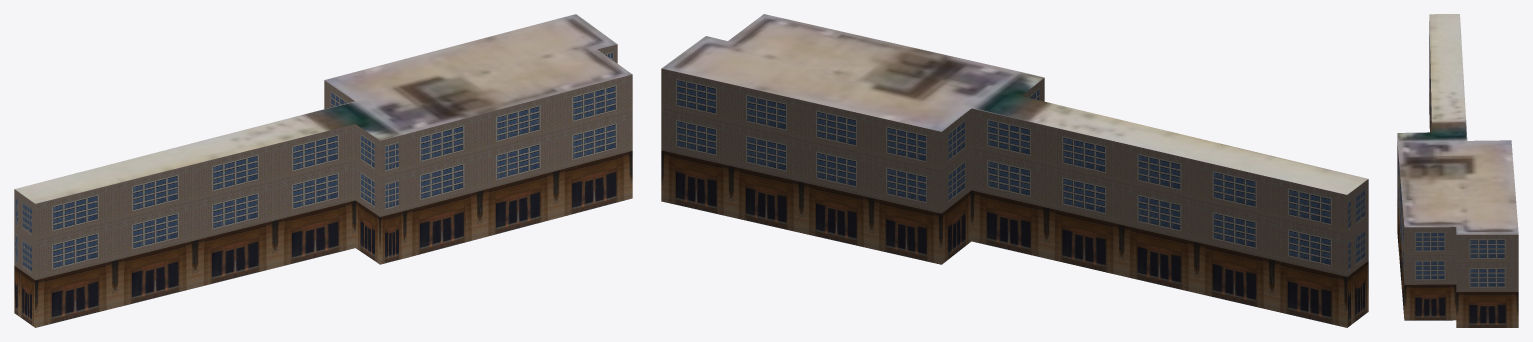
The model's file is T_1SWW04NU6R.dae.
The picture shows the model from 3 angles, left to right: view 1: azimuth 30°, elevation 25°; view 2: azimuth 150°, elevation 25°; view 3: azimuth 270°, elevation 25°; orthographic projection. The views are drawn at different scales.
Parts seen in each view (by area): view 1: SketchUp (×12); view 2: SketchUp (×9); view 3: SketchUp (×8).
Boxes of the visible parts, x1,y1,x2,y2 form: SketchUp (×12): (14,14,632,327); SketchUp (×9): (661,14,1368,327); SketchUp (×8): (1397,14,1518,327).
Bounding box in the file's own units: 43.54 × 10.13 × 8.59.
3 materials, 3 textured.
